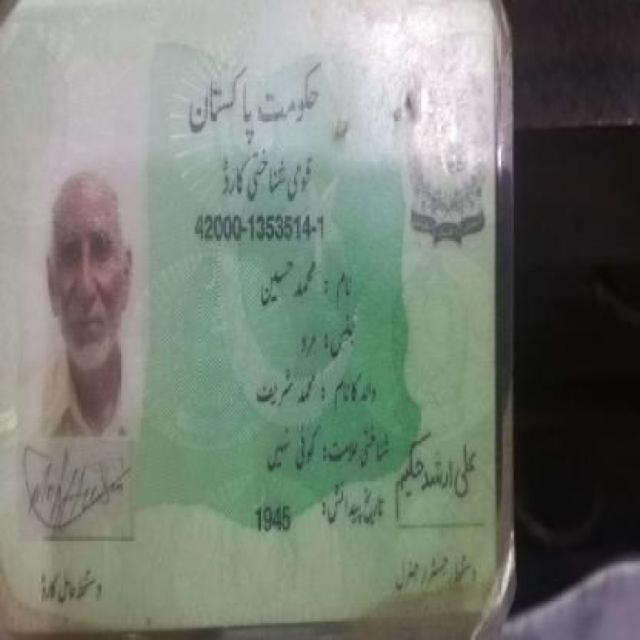Front: (4, 0, 510, 623)
